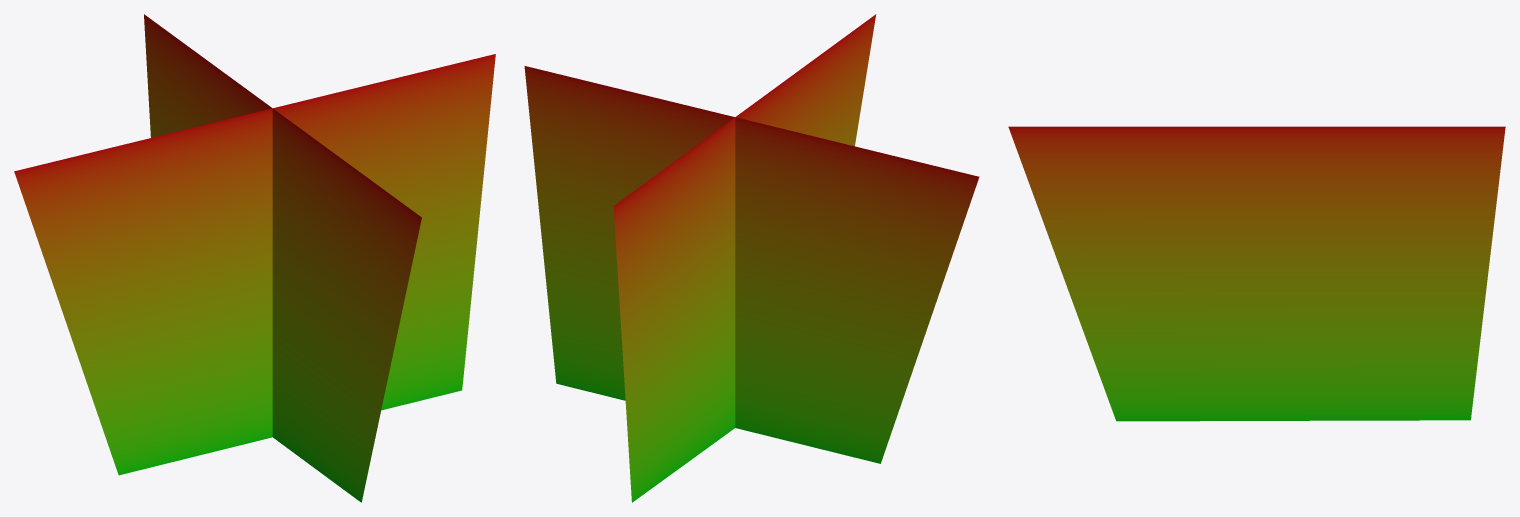
Rendered from Var7_LOD5.fbx.
3 views of the same model, side by side, from view 1: azimuth 30°, elevation 25°; view 2: azimuth 150°, elevation 25°; view 3: azimuth 270°, elevation 25° (orthographic). The views are drawn at different scales.
Visible parts, largest first — view 1: _x1gp_Var7_LOD5; view 2: _x1gp_Var7_LOD5; view 3: _x1gp_Var7_LOD5.
Boxes of the visible parts, bbox=[...] form: _x1gp_Var7_LOD5: bbox=[14, 14, 495, 502]; _x1gp_Var7_LOD5: bbox=[524, 14, 979, 502]; _x1gp_Var7_LOD5: bbox=[1008, 126, 1505, 421].
Size of the model in its own units: 111 by 72.64 by 111.
